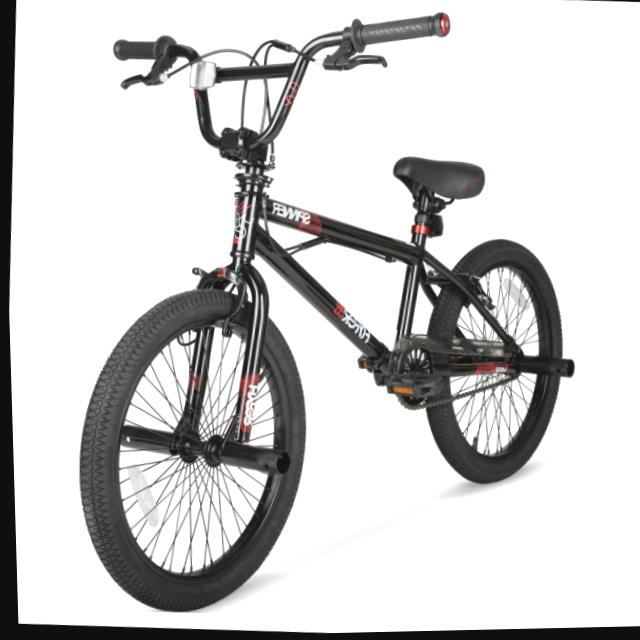bmx-bike: (53, 0, 599, 639)
